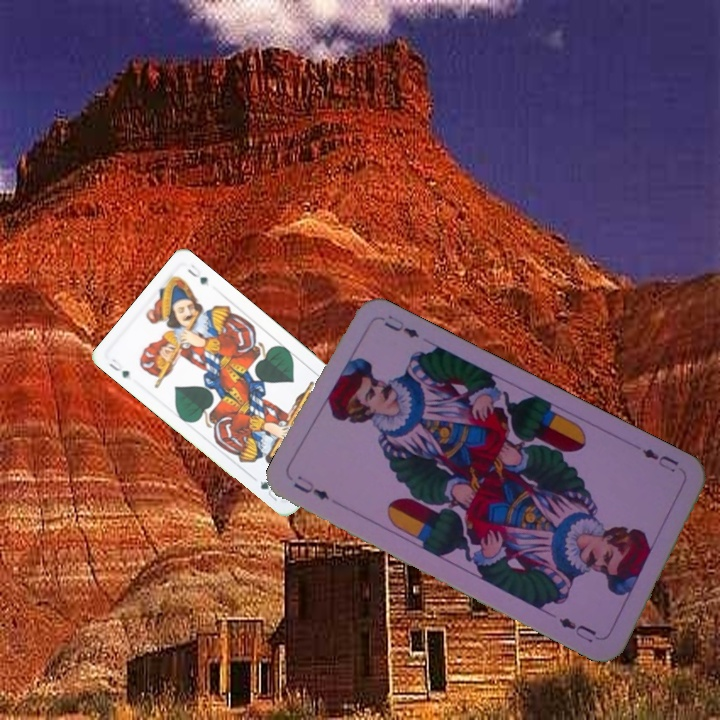EU: (638, 444, 681, 475), (289, 472, 332, 503)
GU: (104, 354, 132, 381)
